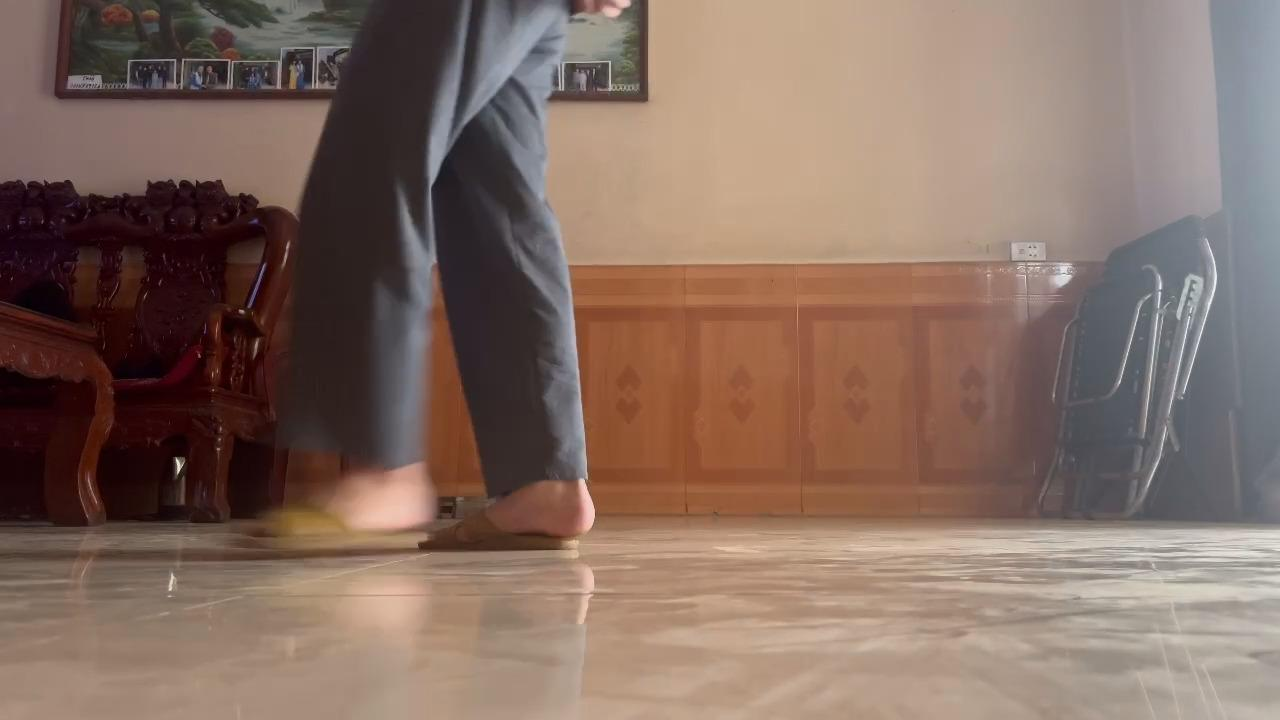no-boot: (220, 466, 445, 564), (418, 479, 606, 562)
